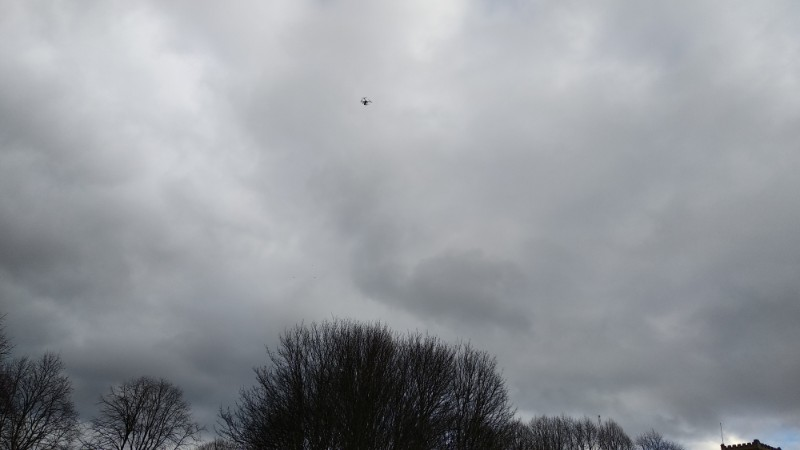drone: (359, 96, 373, 110)
